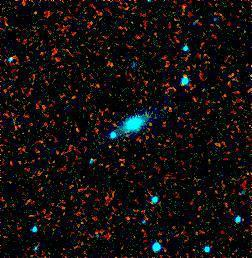star: (166, 0, 196, 25)
